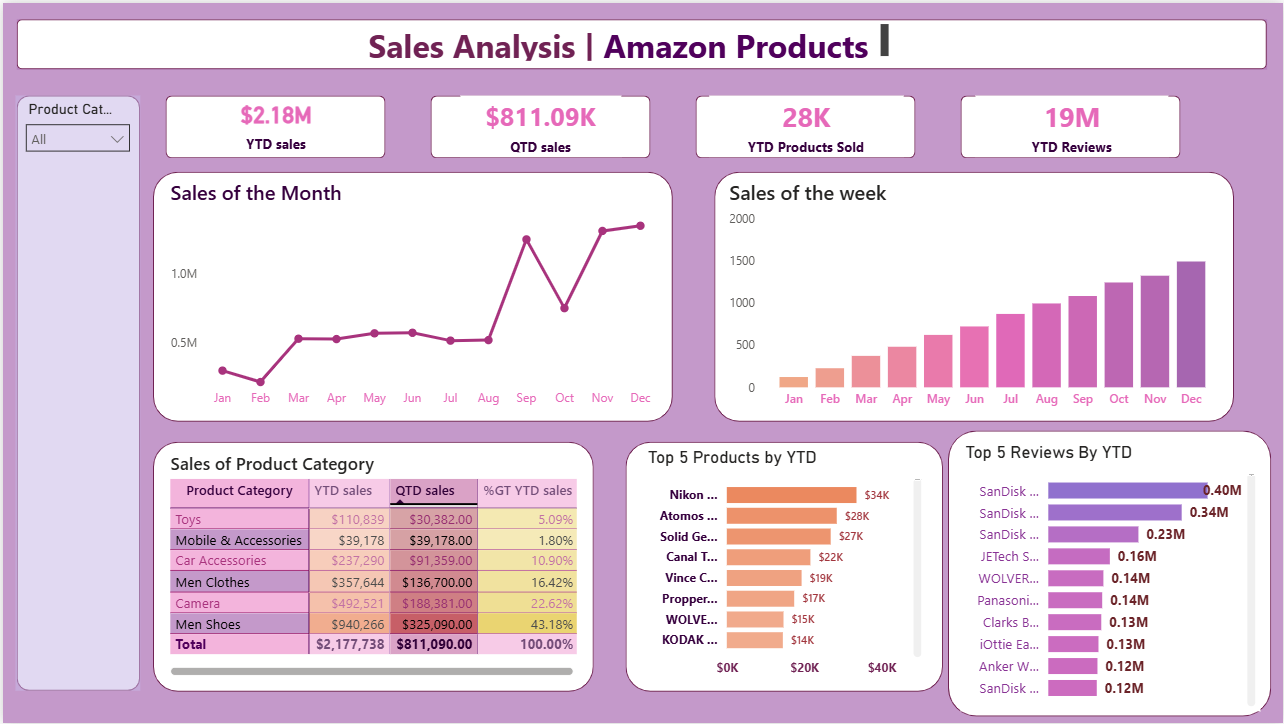

The dashboard page shown, as its layout file describes it:
{"tool":"powerbi","page":{"name":"Page 1","canvas":[1280,720],"ordinal":0},"visuals":[{"type":"shape","box":[14,16.3,1250,50],"z":0},{"type":"textbox","box":[360.5,16.3,530.2,46.5],"z":1000},{"type":"shape","box":[14,93,123.3,595.4],"z":2000},{"type":"shape","box":[162.8,93,220,62.8],"z":3000},{"type":"card","fields":{"Values":["Amazon_Data.YTD sales"]},"box":[201.2,84.9,144.2,70.9],"z":4000},{"type":"shape","box":[957,93,220,62.8],"z":5000},{"type":"shape","box":[692.3,93,220,62.8],"z":6000},{"type":"shape","box":[427.5,93,220,62.8],"z":7000},{"type":"card","fields":{"Values":["Amazon_Data.QTD sales"]},"box":[457,93,160.5,61.6],"z":8000},{"type":"card","fields":{"Values":["Amazon_Data.YTD Products Sold"]},"box":[705.8,93,194.2,61.6],"z":9000},{"type":"card","fields":{"Values":["Amazon_Data.YTD Reviews"]},"box":[972.1,93,193,61.6],"z":10000},{"type":"shape","box":[150,168.6,519.8,250],"z":11000},{"type":"lineChart","title":"Sales of the Month","fields":{"Category":["Date Table.Month Name"],"Y":["Sum(Amazon_Data.Price(Dollar))"]},"box":[162.8,175.6,495.4,238.4],"z":12000},{"type":"shape","box":[711.6,168.6,519.8,250],"z":13000},{"type":"clusteredColumnChart","title":"Sales of the week","fields":{"Category":["Date Table.Month Name"],"Y":["Sum(Date Table.Month Number)"]},"box":[720.9,174.4,501.2,239.5],"z":14000},{"type":"shape","box":[150,438.4,440.7,250],"z":15000},{"type":"pivotTable","title":"Sales of Product Category","fields":{"Rows":["Amazon_Data.Product Category"],"Values":["Amazon_Data.YTD sales1","Amazon_Data.QTD sales","Amazon_Data.YTD sales"]},"box":[162.8,448.8,416.3,229.1],"z":16000},{"type":"shape","box":[622.1,438.4,317.4,250],"z":17000},{"type":"shape","box":[945.4,427.9,323.3,286],"z":18000},{"type":"clusteredBarChart","title":"Top 5 Products by YTD","fields":{"Category":["Amazon_Data.Product Description"],"Y":["Amazon_Data.YTD sales"]},"box":[639.5,444.2,283.7,239.5],"z":19000},{"type":"clusteredBarChart","title":"Top 5 Reviews By YTD","fields":{"Category":["Amazon_Data.Product Description"],"Y":["Amazon_Data.YTD Reviews"]},"box":[957,438.4,300,269.8],"z":20000},{"type":"slicer","fields":{"Values":["Amazon_Data.Product Category"]},"box":[12.8,93,124.4,595.4],"z":21000}]}

Visuals, with their boxes in screenshot pixels (x1, y1, x2, y2), scaled from the page's 1280x720 canvas onto the 1284x724 screenshot:
shape: left=14, top=16, right=1268, bottom=67
textbox: left=362, top=16, right=893, bottom=63
shape: left=14, top=94, right=138, bottom=692
shape: left=163, top=94, right=384, bottom=157
card - Amazon_Data.YTD sales: left=202, top=85, right=346, bottom=157
shape: left=960, top=94, right=1181, bottom=157
shape: left=694, top=94, right=915, bottom=157
shape: left=429, top=94, right=650, bottom=157
card - Amazon_Data.QTD sales: left=458, top=94, right=619, bottom=155
card - Amazon_Data.YTD Products Sold: left=708, top=94, right=903, bottom=155
card - Amazon_Data.YTD Reviews: left=975, top=94, right=1169, bottom=155
shape: left=150, top=170, right=672, bottom=421
"Sales of the Month" lineChart: left=163, top=177, right=660, bottom=416
shape: left=714, top=170, right=1235, bottom=421
"Sales of the week" clusteredColumnChart: left=723, top=175, right=1226, bottom=416
shape: left=150, top=441, right=593, bottom=692
"Sales of Product Category" pivotTable: left=163, top=451, right=581, bottom=682
shape: left=624, top=441, right=942, bottom=692
shape: left=948, top=430, right=1273, bottom=718
"Top 5 Products by YTD" clusteredBarChart: left=641, top=447, right=926, bottom=687
"Top 5 Reviews By YTD" clusteredBarChart: left=960, top=441, right=1261, bottom=712
slicer - Amazon_Data.Product Category: left=13, top=94, right=138, bottom=692
